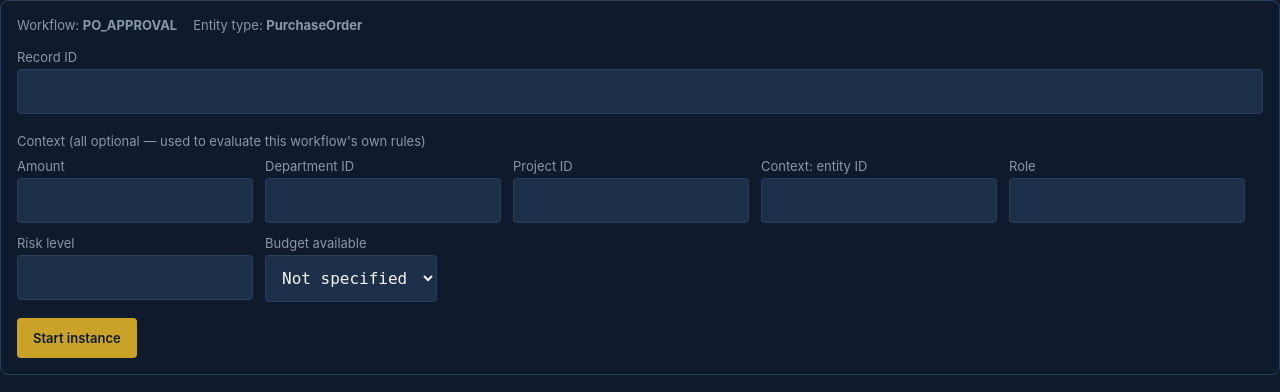
it: StartInstanceForm — submit › does not show a "View instance" link on failure
Type "po-123" into the field labelled "Record ID" at [640, 92], box [17,69,1263,114]
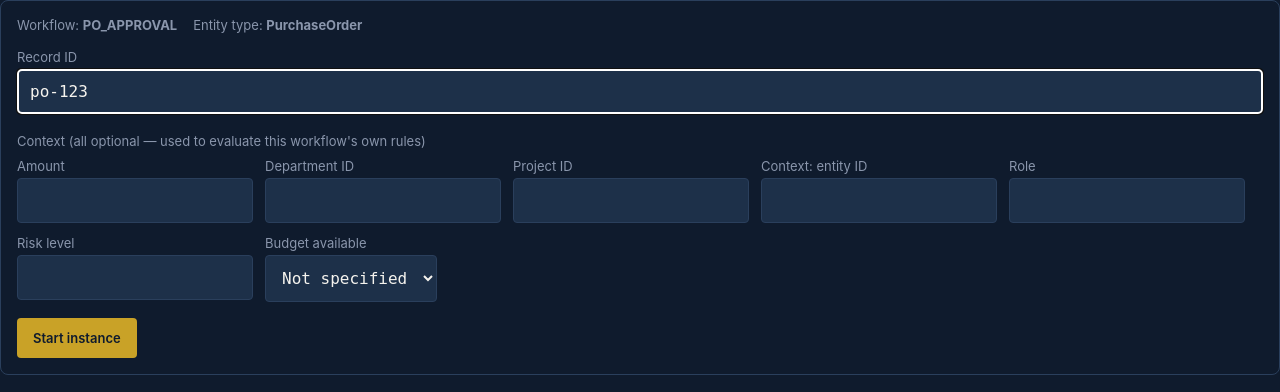
Click the button "Start instance" at [77, 338], box [17,318,137,358]
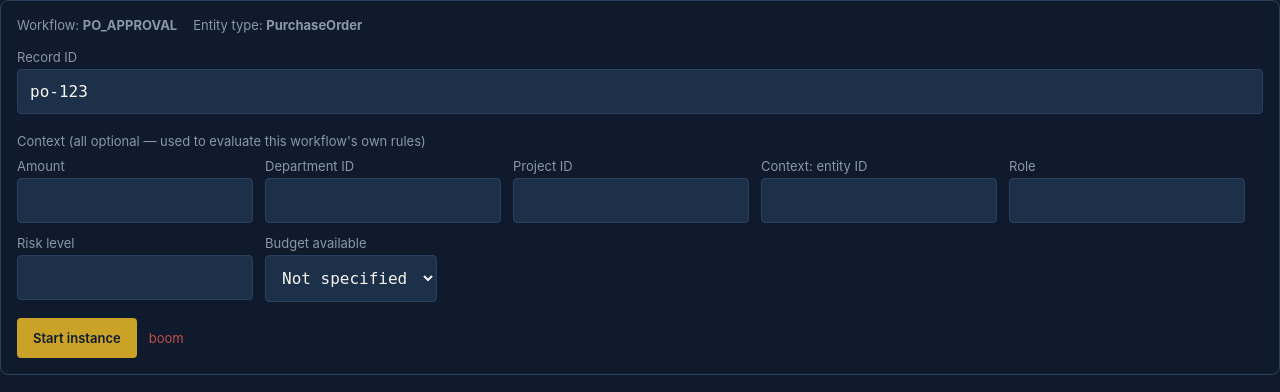
expect the text "boom" is shown: met, box [149,330,184,346]
